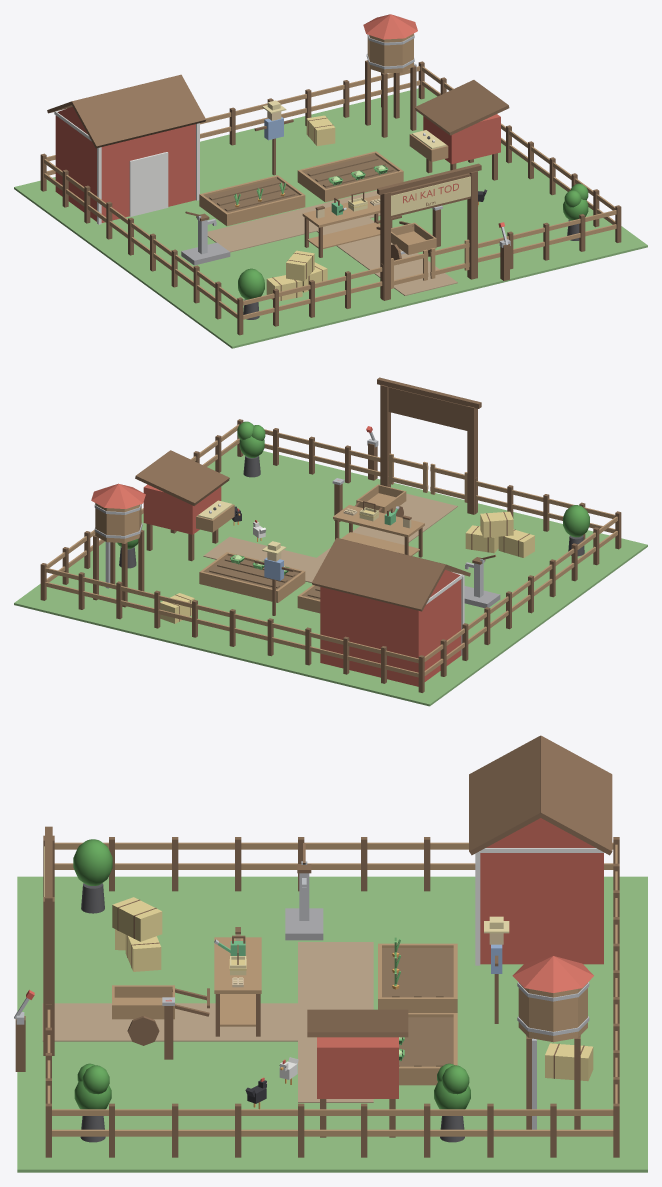
The model's file is house5_farm.fbx.
The picture shows the model from 3 angles, top to bottom: view 1: azimuth 30°, elevation 25°; view 2: azimuth 150°, elevation 25°; view 3: azimuth 270°, elevation 25°; orthographic projection. The views are drawn at different scales.
Parts seen in each view (by area): view 1: grass, barn, roof, path, roof.001, door, coop, fence.001, posts.001, fence, frame, frame.001 (+30 smaller); view 2: grass, barn, roof.002, fence, path, roof.001, posts, posts.001, coop, fence.001, sign, frame.001 (+26 smaller); view 3: grass, path, barn, fence.002, roof.002, roof, fence.001, coop, posts.002, roof.001, tank, plot (+30 smaller).
Boxes of the visible parts, x1=… form: grass: x1=14, y1=87, x2=647, y2=348; barn: x1=55, y1=115, x2=195, y2=222; roof: x1=71, y1=75, x2=206, y2=148; path: x1=207, y1=190, x2=457, y2=295; roof.001: x1=415, y1=80, x2=509, y2=135; door: x1=129, y1=152, x2=168, y2=216; coop: x1=423, y1=114, x2=500, y2=164; fence.001: x1=44, y1=159, x2=237, y2=318; posts.001: x1=41, y1=153, x2=242, y2=334; fence: x1=46, y1=66, x2=420, y2=175; frame: x1=199, y1=175, x2=305, y2=225; frame.001: x1=297, y1=151, x2=403, y2=202; grass: x1=14, y1=445, x2=647, y2=706; barn: x1=320, y1=579, x2=461, y2=686; roof.002: x1=312, y1=538, x2=446, y2=611; fence: x1=45, y1=567, x2=418, y2=677; path: x1=203, y1=493, x2=457, y2=582; roof.001: x1=135, y1=450, x2=229, y2=505; posts: x1=40, y1=563, x2=424, y2=692; posts.001: x1=418, y1=511, x2=621, y2=692; coop: x1=143, y1=484, x2=221, y2=534; fence.001: x1=424, y1=516, x2=617, y2=675; sign: x1=388, y1=387, x2=467, y2=430; frame.001: x1=199, y1=552, x2=305, y2=602; grass: x1=17, y1=876, x2=647, y2=1172; path: x1=42, y1=942, x2=373, y2=1102; barn: x1=480, y1=853, x2=603, y2=964; fence.002: x1=52, y1=1109, x2=613, y2=1136; roof.002: x1=540, y1=735, x2=612, y2=855; roof: x1=469, y1=735, x2=542, y2=855; fence.001: x1=54, y1=842, x2=613, y2=869; coop: x1=317, y1=1037, x2=398, y2=1098; posts.002: x1=45, y1=1103, x2=619, y2=1157; roof.001: x1=307, y1=1009, x2=408, y2=1037; tank: x1=518, y1=982, x2=587, y2=1042; plot: x1=382, y1=948, x2=453, y2=997.
Size of the model in its own units: 11 by 2.91 by 10.05.
